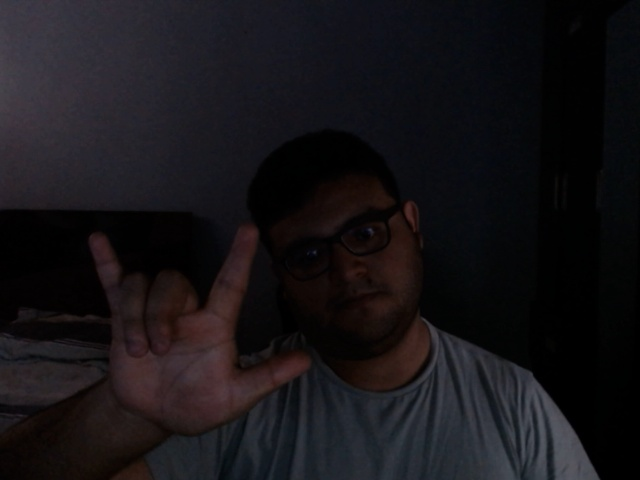I love you: (83, 218, 315, 439)
